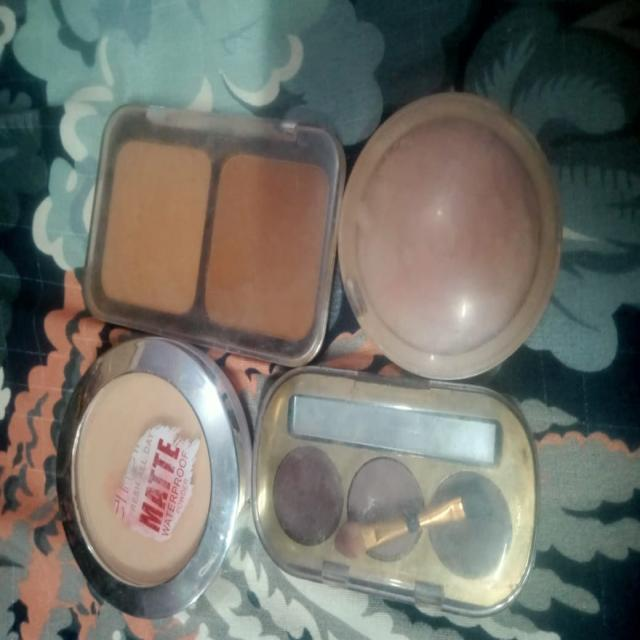bronzer: (200, 136, 330, 346), (98, 124, 210, 328)
powder: (57, 356, 219, 591)
